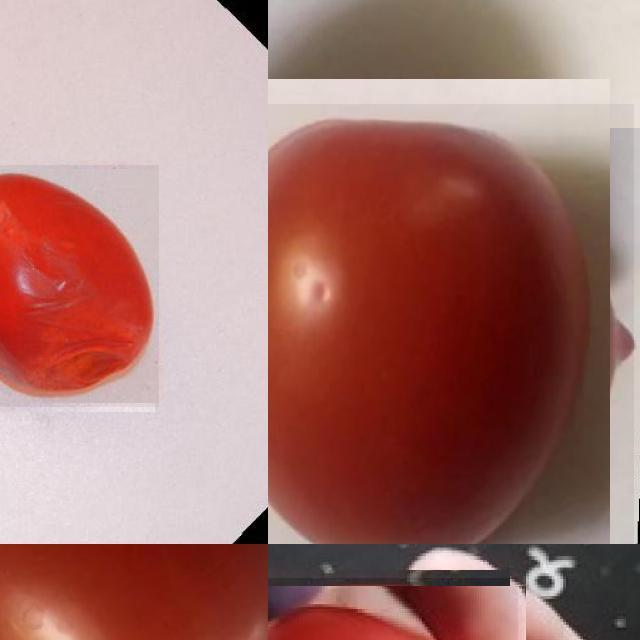Fresh Tomato: (268, 103, 634, 544), (0, 544, 268, 640), (268, 578, 518, 640)
Rotten Tomato: (0, 164, 159, 407)
